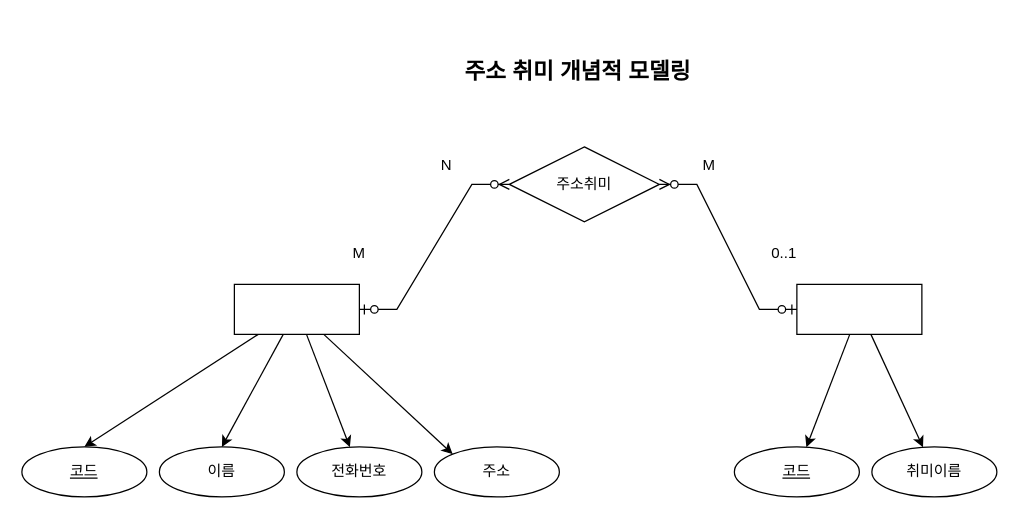
The diagram is 1019 pixels wide and 519 high, and some of its shapes have lost their labels. Each missing label, with the centre of its shape:
주소록: point (296, 308)
취미: point (859, 308)
